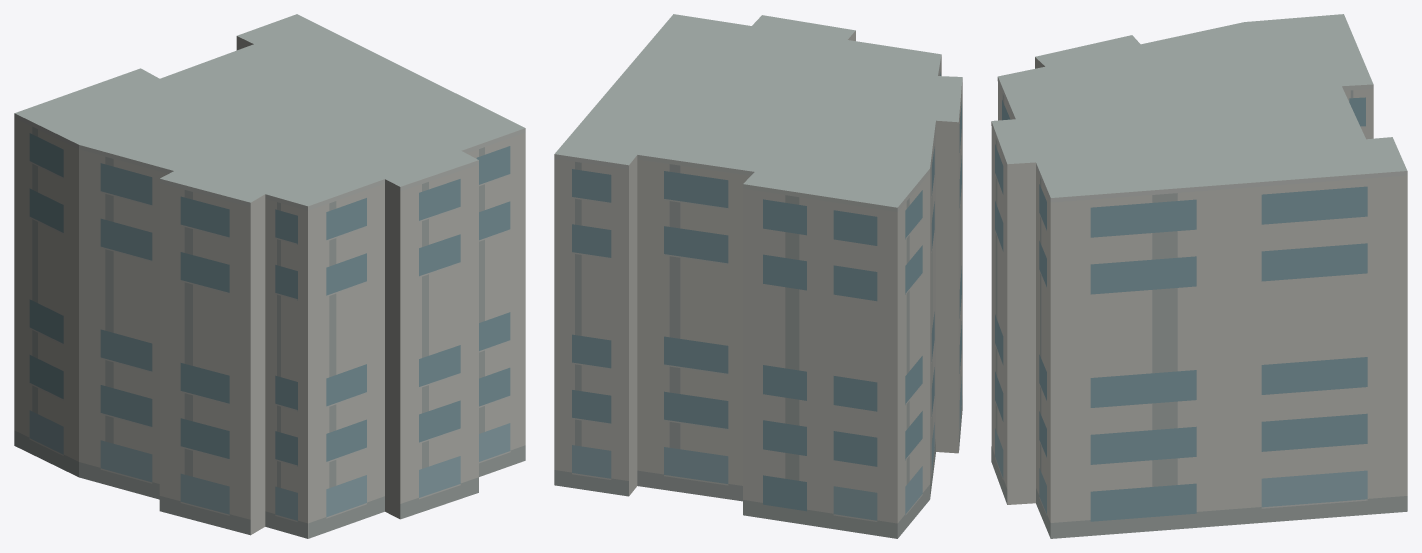
Rendered from survey-upis-32835619.glb.
3 views of the same model, side by side, from view 1: azimuth 30°, elevation 25°; view 2: azimuth 150°, elevation 25°; view 3: azimuth 270°, elevation 25° (orthographic). The views are drawn at different scales.
Visible parts, largest first — view 1: survey-upis-32835619.tmp; view 2: survey-upis-32835619.tmp; view 3: survey-upis-32835619.tmp.
Part boxes in pixels (bbox=[...]): survey-upis-32835619.tmp: bbox=[14, 14, 525, 538]; survey-upis-32835619.tmp: bbox=[554, 14, 962, 538]; survey-upis-32835619.tmp: bbox=[991, 14, 1407, 538].
Bounding box in the file's own units: 20.51 × 17.7 × 19.59.
